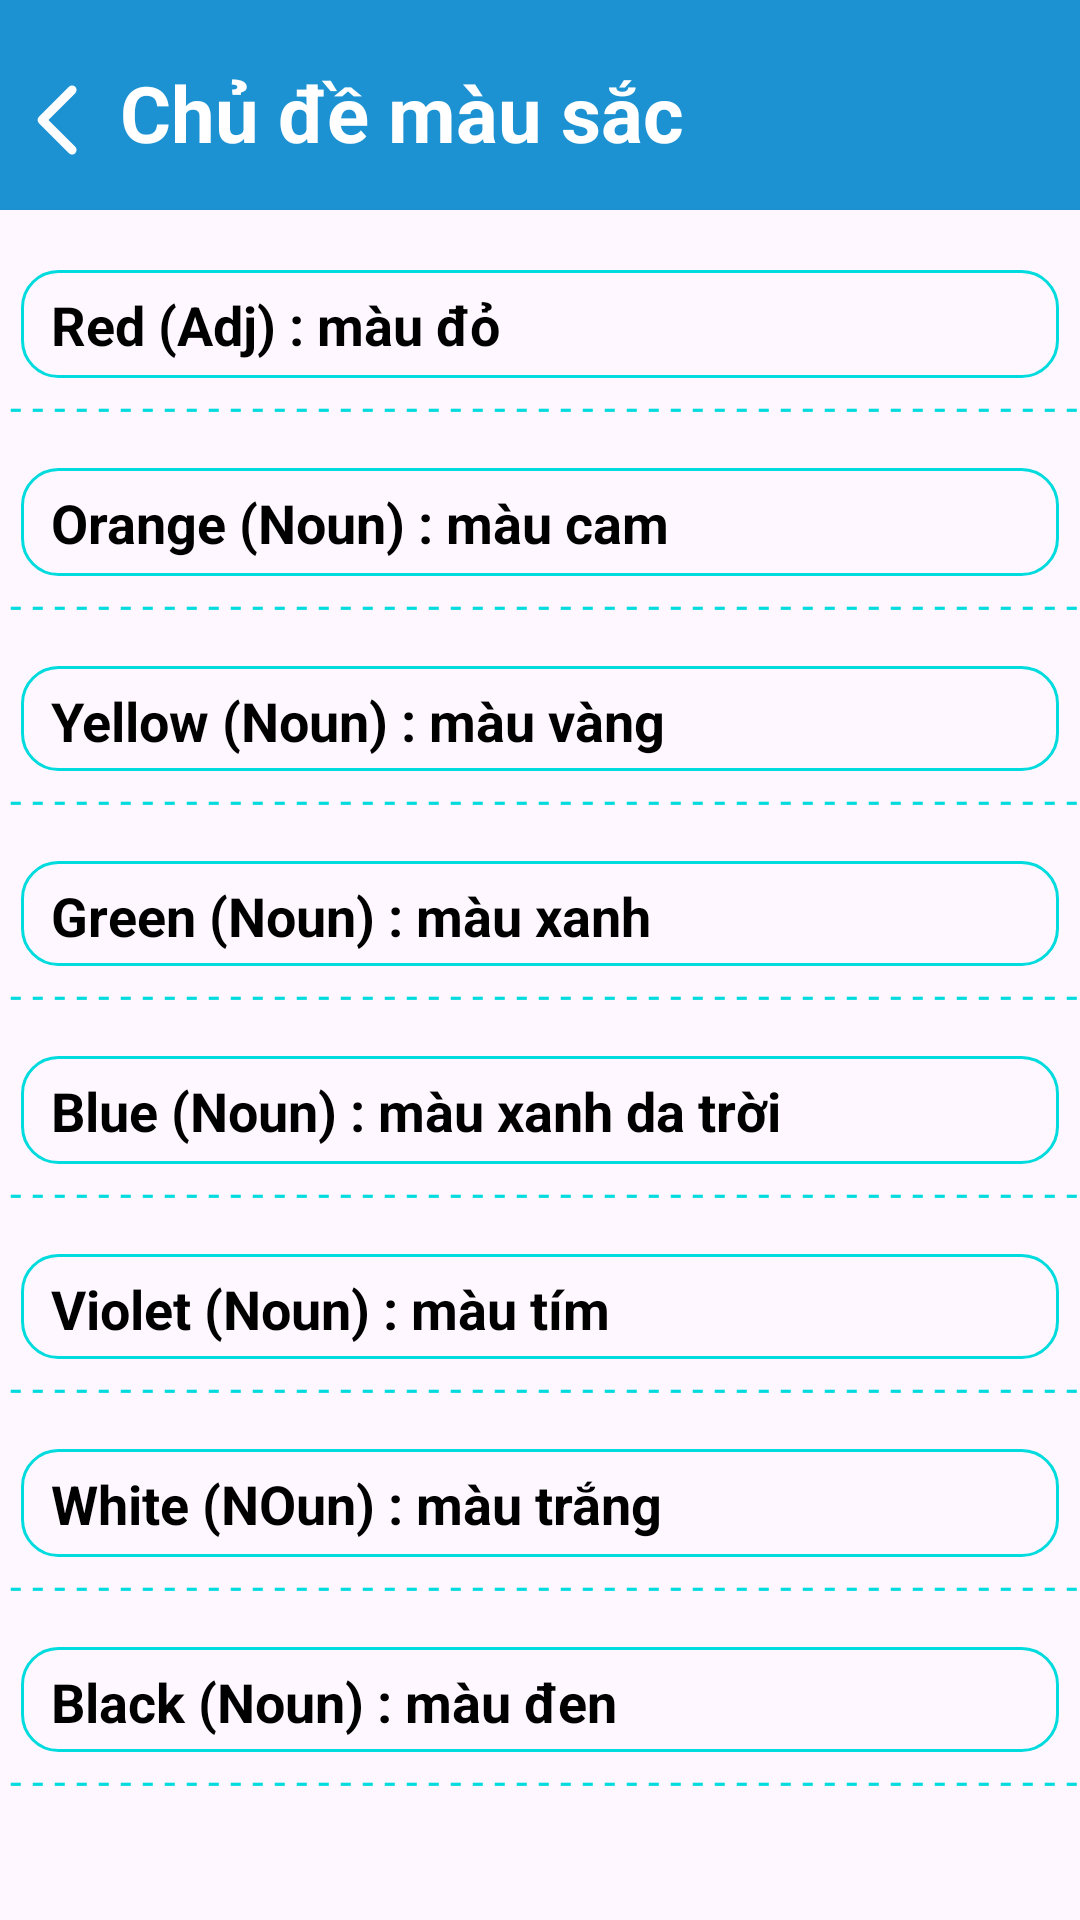

Named icons in this screenshot (1080w x 1920h) and their bounding boxes, (x1, y1, x2, y2):
angle left full: (37, 85, 77, 155)
